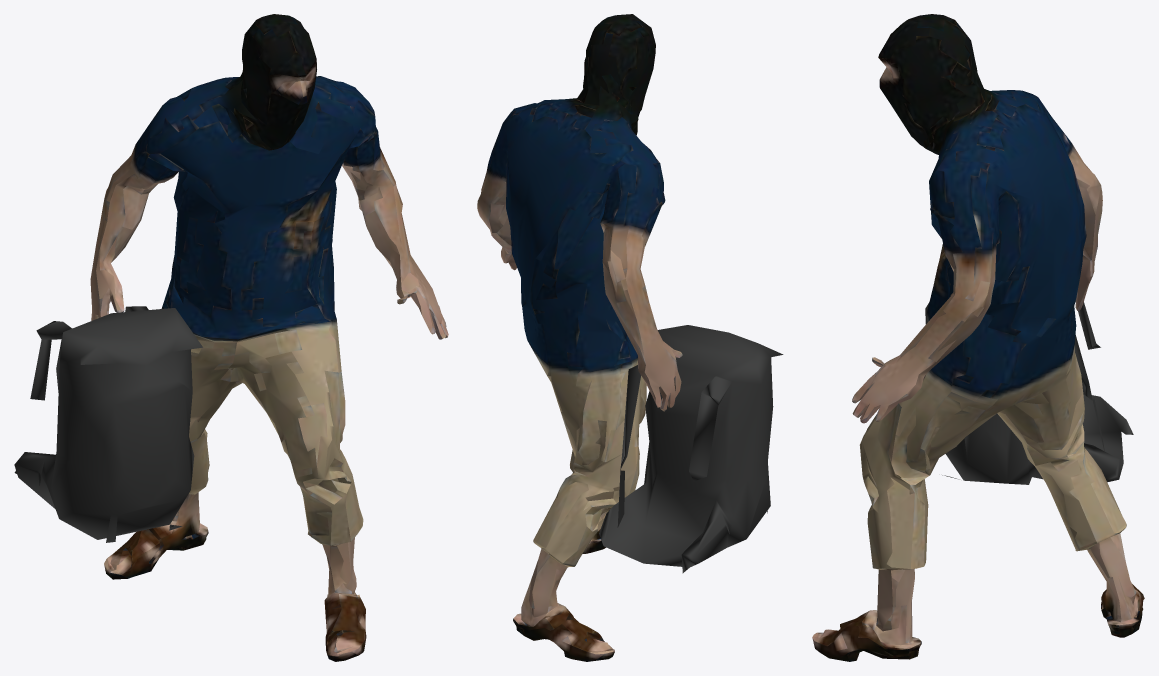
File: teroris_idle_lod2.glb
3 views of the same model, side by side, from view 1: azimuth 30°, elevation 25°; view 2: azimuth 150°, elevation 25°; view 3: azimuth 270°, elevation 25° (orthographic). The views are drawn at different scales.
Visible parts, largest first — view 1: tripo_node_a63f28f0; view 2: tripo_node_a63f28f0; view 3: tripo_node_a63f28f0.
Boxes of the visible parts, x1,y1,x2,y2 form: tripo_node_a63f28f0: (14,14,448,661); tripo_node_a63f28f0: (477,14,783,661); tripo_node_a63f28f0: (812,14,1144,661).
Bounding box in the file's own units: 52.75 × 92.79 × 44.71.
2 materials, 2 textured.
